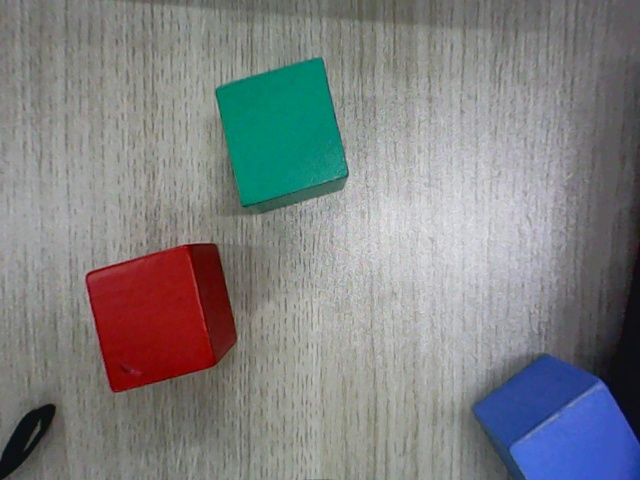upside of big cube: (216, 57, 349, 204), (86, 247, 211, 392), (512, 385, 639, 479)
